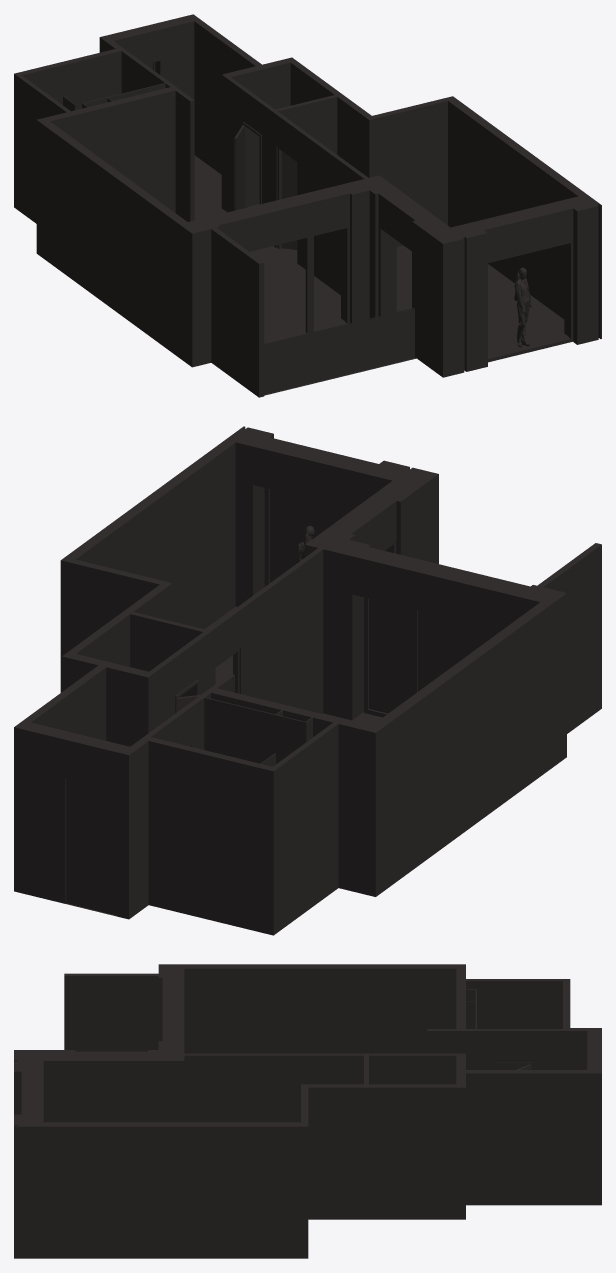
File: b9eb506b8d-apartment_a_023_draco-decoded.glb
The picture shows the model from 3 angles, top to bottom: view 1: azimuth 30°, elevation 25°; view 2: azimuth 150°, elevation 25°; view 3: azimuth 270°, elevation 25°; orthographic projection. The views are drawn at different scales.
Parts seen in each view (by area): view 1: apartment_a_023, APTGLAZ, GIRL; view 2: apartment_a_023, APTGLAZ; view 3: apartment_a_023, APTGLAZ.
Part boxes in pixels (box(x1,y1,x2,y2)): apartment_a_023: box(14, 14, 601, 397); APTGLAZ: box(63, 96, 414, 394); GIRL: box(514, 267, 532, 347); apartment_a_023: box(14, 426, 601, 935); APTGLAZ: box(261, 489, 500, 766); apartment_a_023: box(14, 964, 601, 1258); APTGLAZ: box(77, 1064, 508, 1122).
Size of the model in its own units: 7.9 by 3 by 12.11.
Materials: 1 (1 with a texture image).
